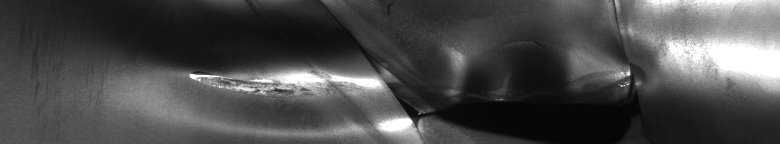ke: (172, 4, 504, 136)
